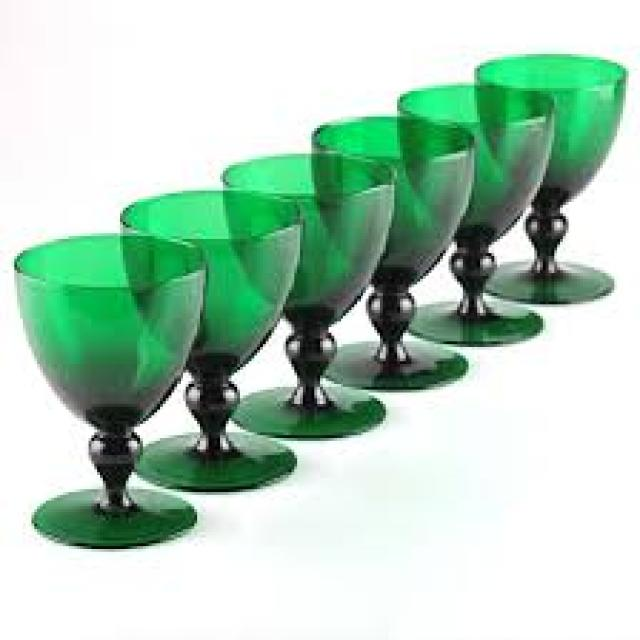glass: (11, 225, 203, 546), (114, 185, 297, 486), (217, 148, 397, 438), (312, 114, 475, 390), (395, 83, 552, 344), (474, 51, 623, 302)
